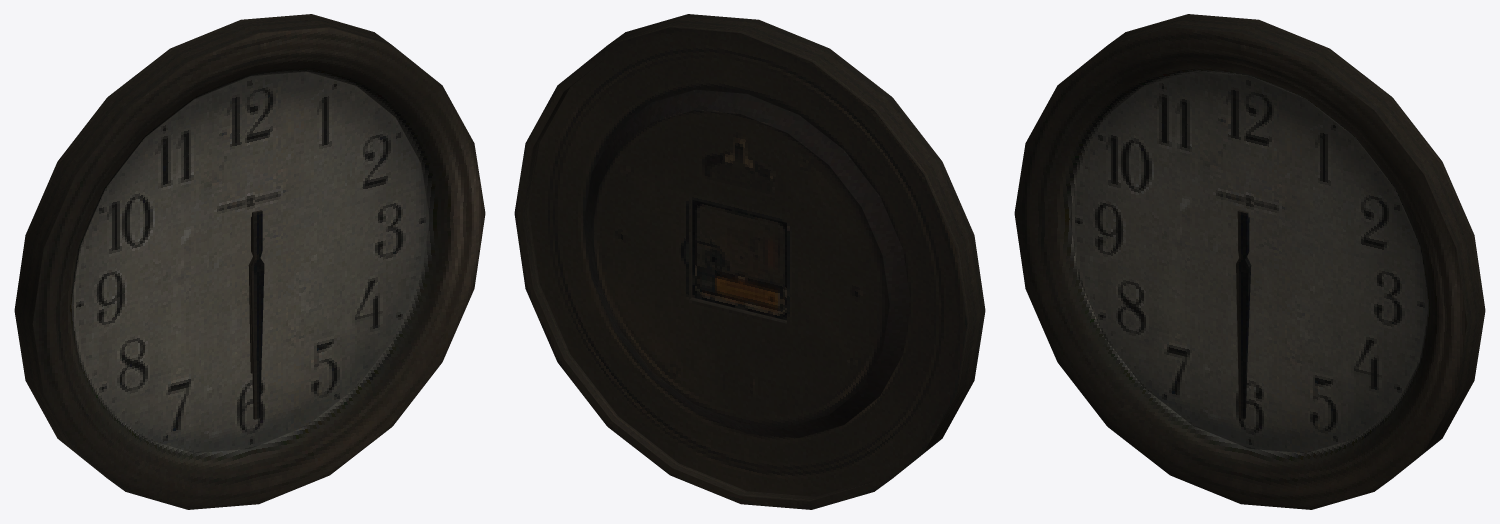
File: clock_1.glb
The picture shows the model from 3 angles, left to right: view 1: azimuth 30°, elevation 25°; view 2: azimuth 150°, elevation 25°; view 3: azimuth 330°, elevation 25°; orthographic projection.
Visible parts, largest first — view 1: clock_1, clock_1_arm_minutes; view 2: clock_1; view 3: clock_1, clock_1_arm_minutes.
Part boxes in pixels (x1,y1,x2,y2): clock_1: (14, 14, 485, 509); clock_1_arm_minutes: (250, 210, 264, 419); clock_1: (514, 14, 985, 509); clock_1: (1014, 14, 1485, 509); clock_1_arm_minutes: (1236, 210, 1249, 419).
Bounding box in the file's own units: 0.4023 × 0.4 × 0.03.
1 material, 1 textured.
